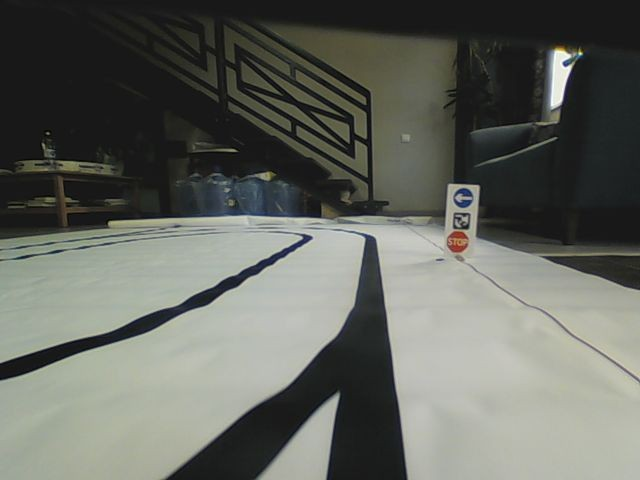Stop: (446, 230, 469, 252)
